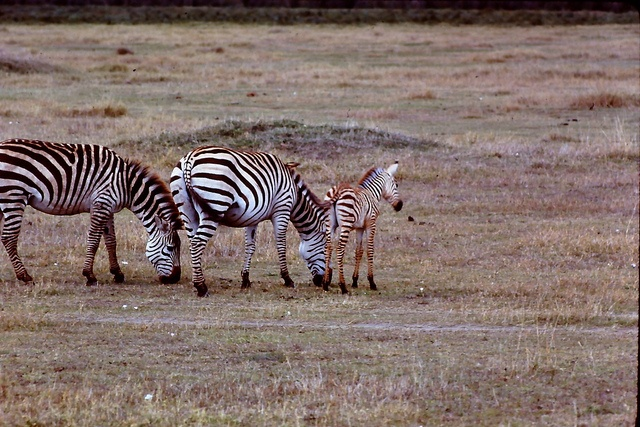zebra: (0, 136, 180, 287), (168, 145, 335, 297), (321, 160, 402, 296)
